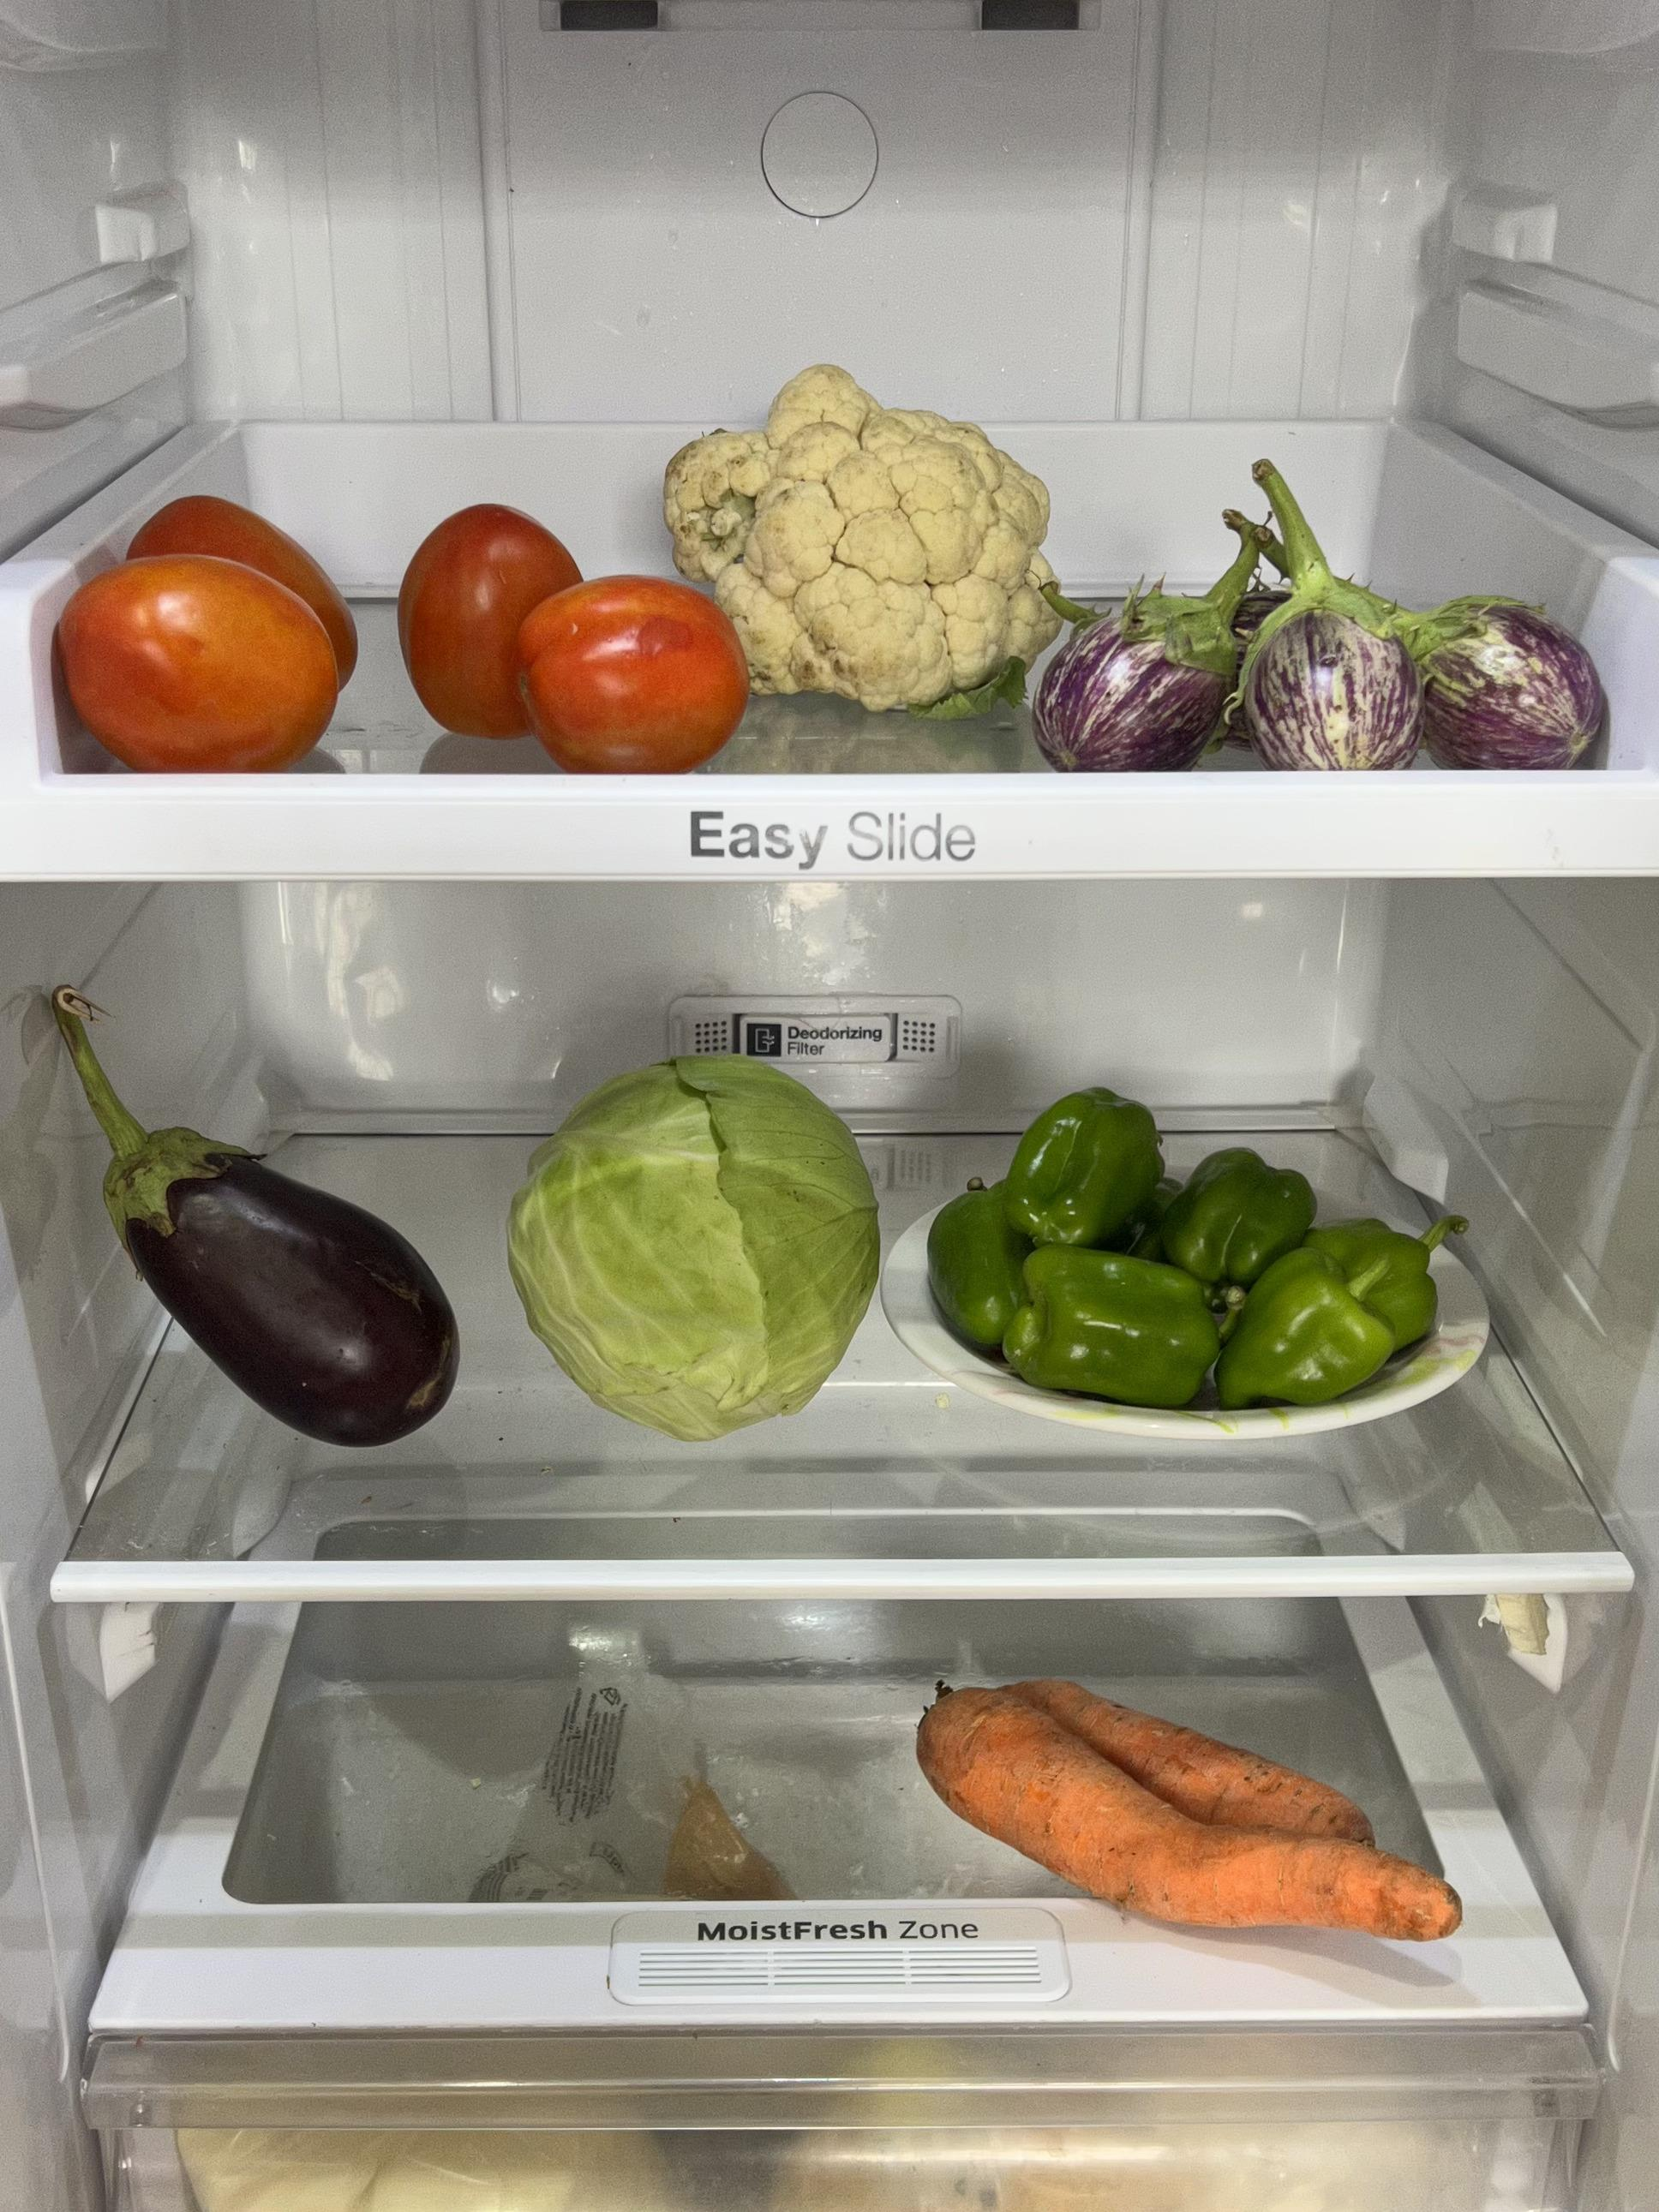bringal: (44, 977, 462, 1447), (1042, 554, 1608, 772)
cabbage: (525, 1050, 873, 1435)
capsicum: (931, 1097, 1446, 1411)
carrots: (910, 1646, 1453, 1952)
cauliflower: (660, 366, 1082, 688)
tomato: (58, 502, 753, 765)
